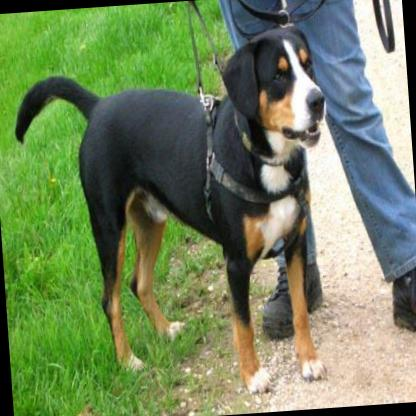EntleBucher: (10, 25, 346, 407)
